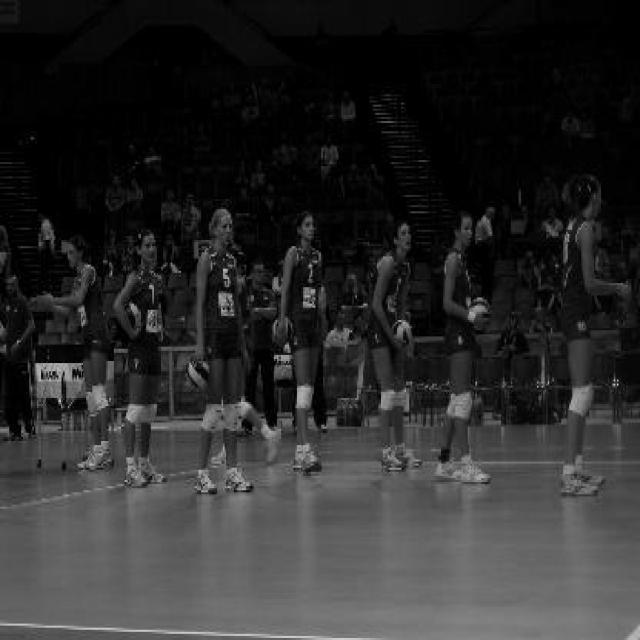volleyball: (469, 301, 492, 331), (391, 322, 414, 348), (186, 361, 209, 386), (274, 320, 292, 346)
